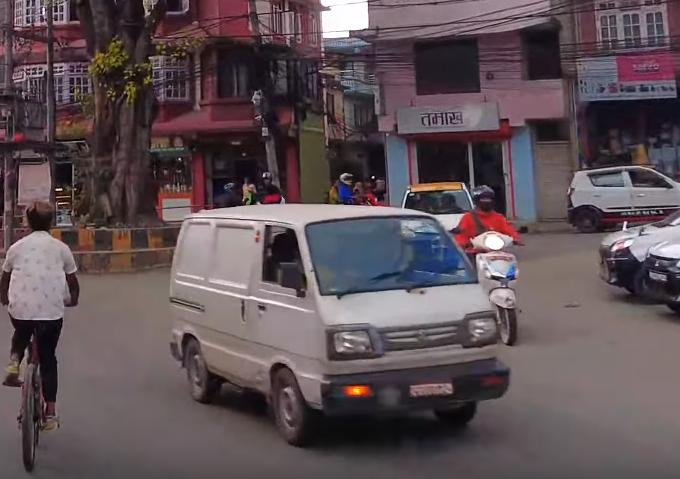scooter: (451, 221, 532, 353)
taxi: (567, 162, 680, 234), (402, 180, 480, 252)
van: (165, 193, 512, 449)
